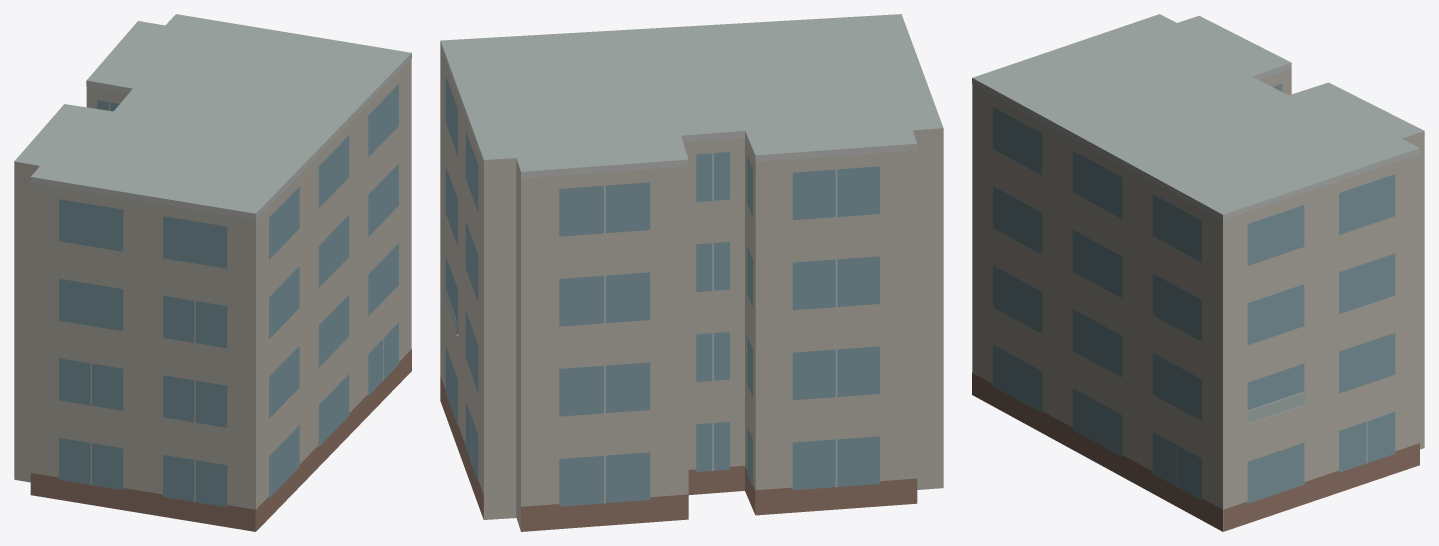
The model's file is survey-upis-32746362.glb.
The picture shows the model from 3 angles, left to right: view 1: azimuth 30°, elevation 25°; view 2: azimuth 150°, elevation 25°; view 3: azimuth 270°, elevation 25°; orthographic projection. The views are drawn at different scales.
Parts seen in each view (by area): view 1: survey-upis-32746362.tmp; view 2: survey-upis-32746362.tmp; view 3: survey-upis-32746362.tmp.
Part boxes in pixels (<box>): survey-upis-32746362.tmp: <box>14,14,411,531</box>; survey-upis-32746362.tmp: <box>440,14,943,531</box>; survey-upis-32746362.tmp: <box>972,14,1424,531</box>.
Size of the model in its own units: 17.8 by 13.1 by 16.96.
